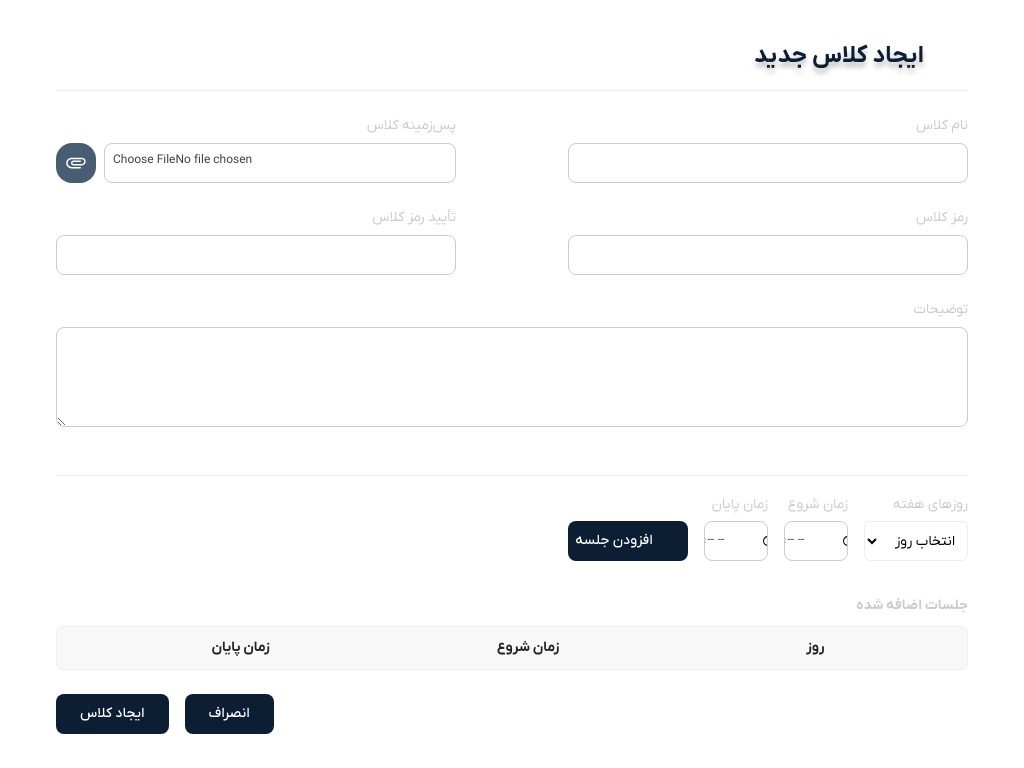
ClassForm Component - Create Mode › should display an error when adding a schedule with empty fields
Click the button "افزودن جلسه" at (628, 541), box 568,521 -> 688,561
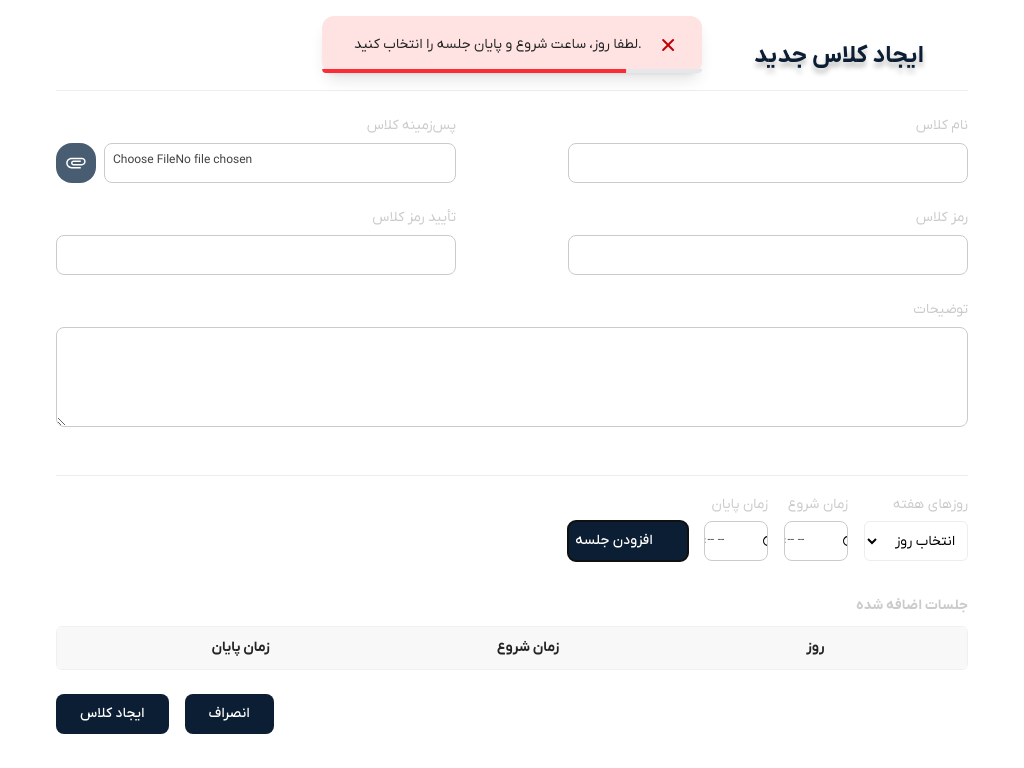
Expected: the text "لطفا روز، ساعت شروع و پایان جلسه را انتخاب کنید." is shown, 354,35 -> 642,54
